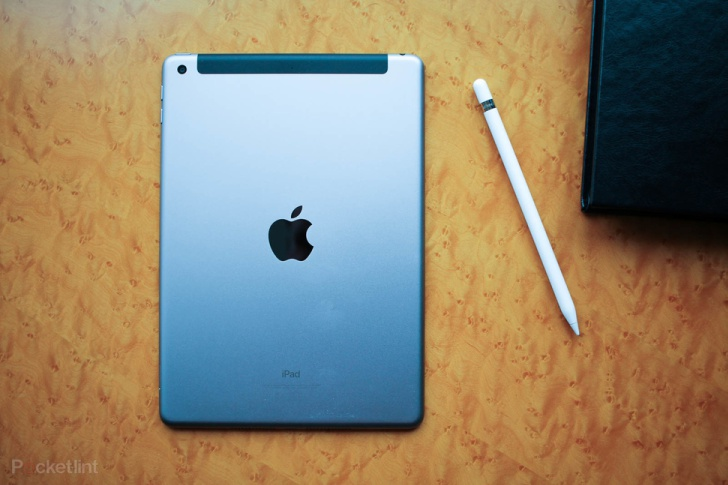apple: (255, 199, 330, 271)
